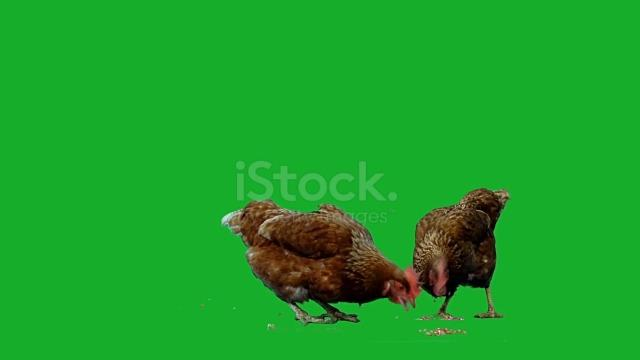Normal: (223, 195, 421, 322)
